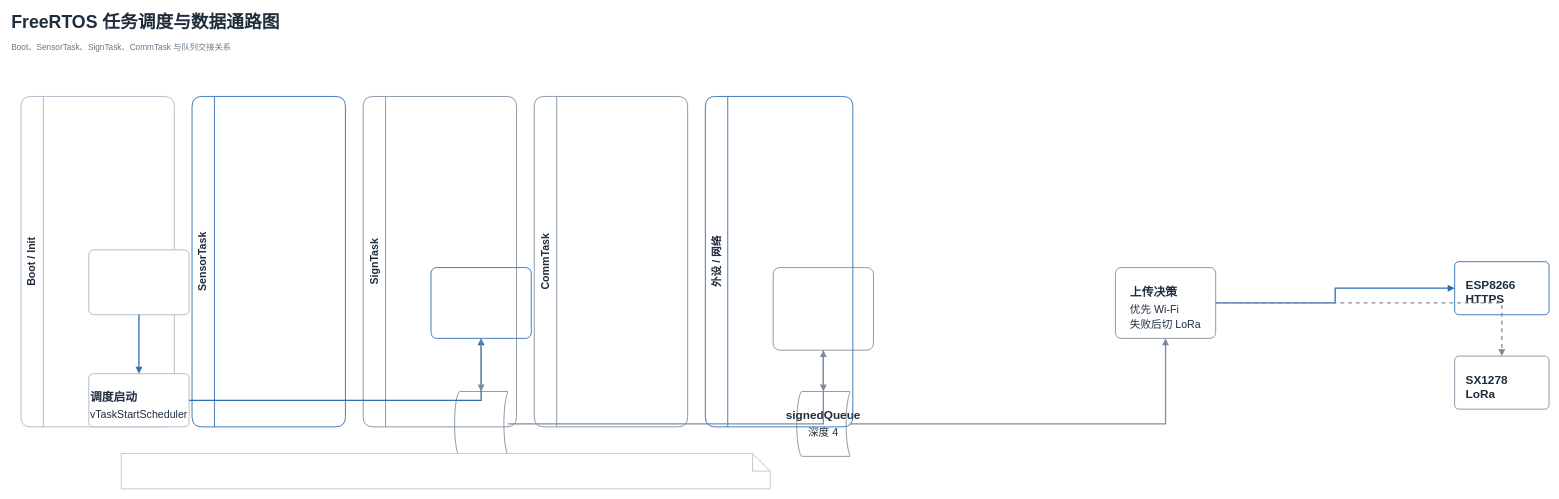
The diagram is 1559 pixels wide and 499 high, and some of its shapes have lost their labels. Here are the shapes that lost their labels. From the top down, the centre of each, then its label:
At pixel 138 282: "系统初始化 HAL / Clock / 外设 Init 创建任务与队列".
At pixel 480 303: "采集一帧 30 s 周期 前 3 分钟 CO₂=-1".
At pixel 823 308: "签名流水 规范化 -> SHA-256 ATECC608A Sign DER 编码".
At pixel 481 424: "sensorQueue 深度 4".
At pixel 445 471: "采集、签名与通信通过队列解耦；空闲阶段可进入低功耗模式。".
